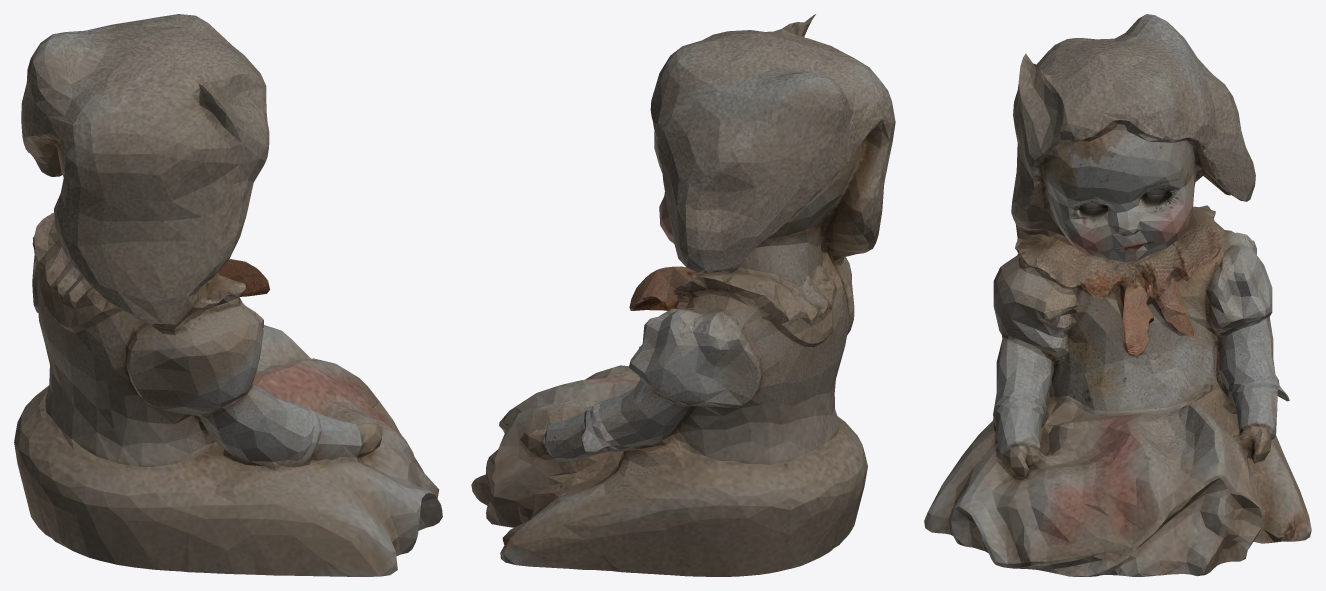
The model's file is broken_doll.glb.
3 renders of one model, left to right at view 1: azimuth 30°, elevation 25°; view 2: azimuth 150°, elevation 25°; view 3: azimuth 270°, elevation 25°, orthographic. The views are drawn at different scales.
Visible parts, largest first — view 1: tripo_node_1e158fac-00d6-4bda-afad-bed91c2e1758; view 2: tripo_node_1e158fac-00d6-4bda-afad-bed91c2e1758; view 3: tripo_node_1e158fac-00d6-4bda-afad-bed91c2e1758.
Part boxes in pixels (<box>): tripo_node_1e158fac-00d6-4bda-afad-bed91c2e1758: <box>14,14,442,576</box>; tripo_node_1e158fac-00d6-4bda-afad-bed91c2e1758: <box>471,14,895,576</box>; tripo_node_1e158fac-00d6-4bda-afad-bed91c2e1758: <box>924,14,1311,576</box>.
Bounding box in the file's own units: 0.7832 × 0.998 × 0.8262.
Materials: 1 (1 with a texture image).
